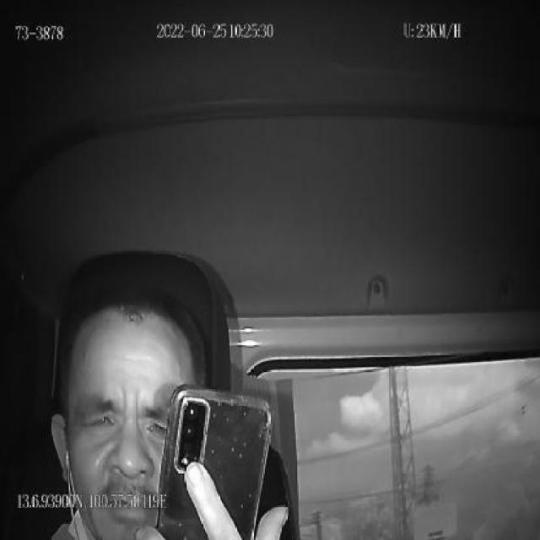phone: (159, 383, 272, 540)
